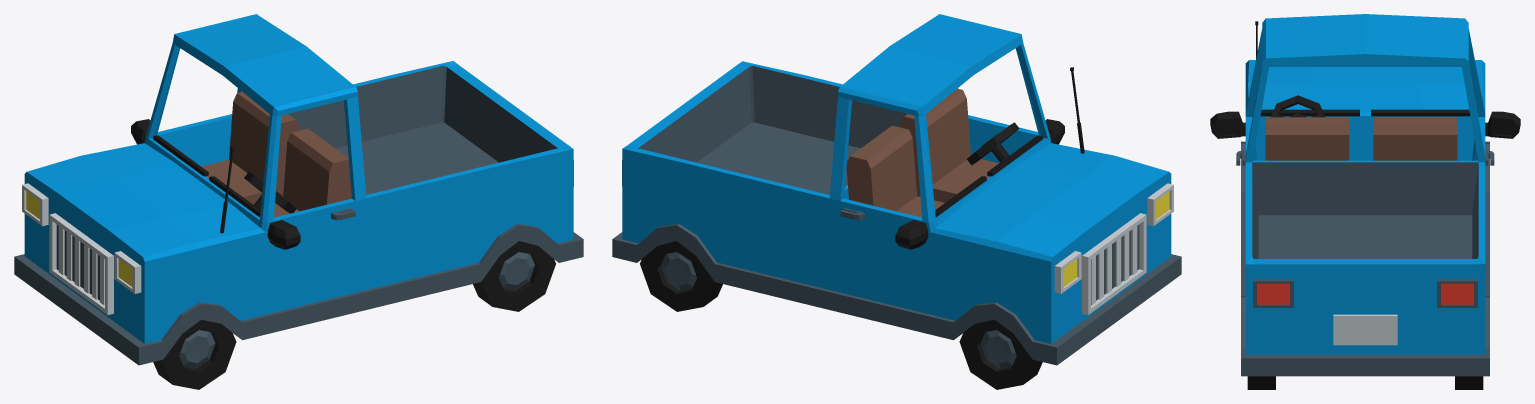
File: Truck.glb
The picture shows the model from 3 angles, left to right: view 1: azimuth 30°, elevation 25°; view 2: azimuth 150°, elevation 25°; view 3: azimuth 270°, elevation 25°; orthographic projection.
Visible parts, largest first — view 1: car_01_Cube.000; view 2: car_01_Cube.000; view 3: car_01_Cube.000.
Part boxes in pixels (x1,y1,x2,y2): car_01_Cube.000: (14, 14, 583, 389); car_01_Cube.000: (612, 14, 1181, 389); car_01_Cube.000: (1210, 14, 1520, 389).
Size of the model in its own units: 353 by 197 by 213.
